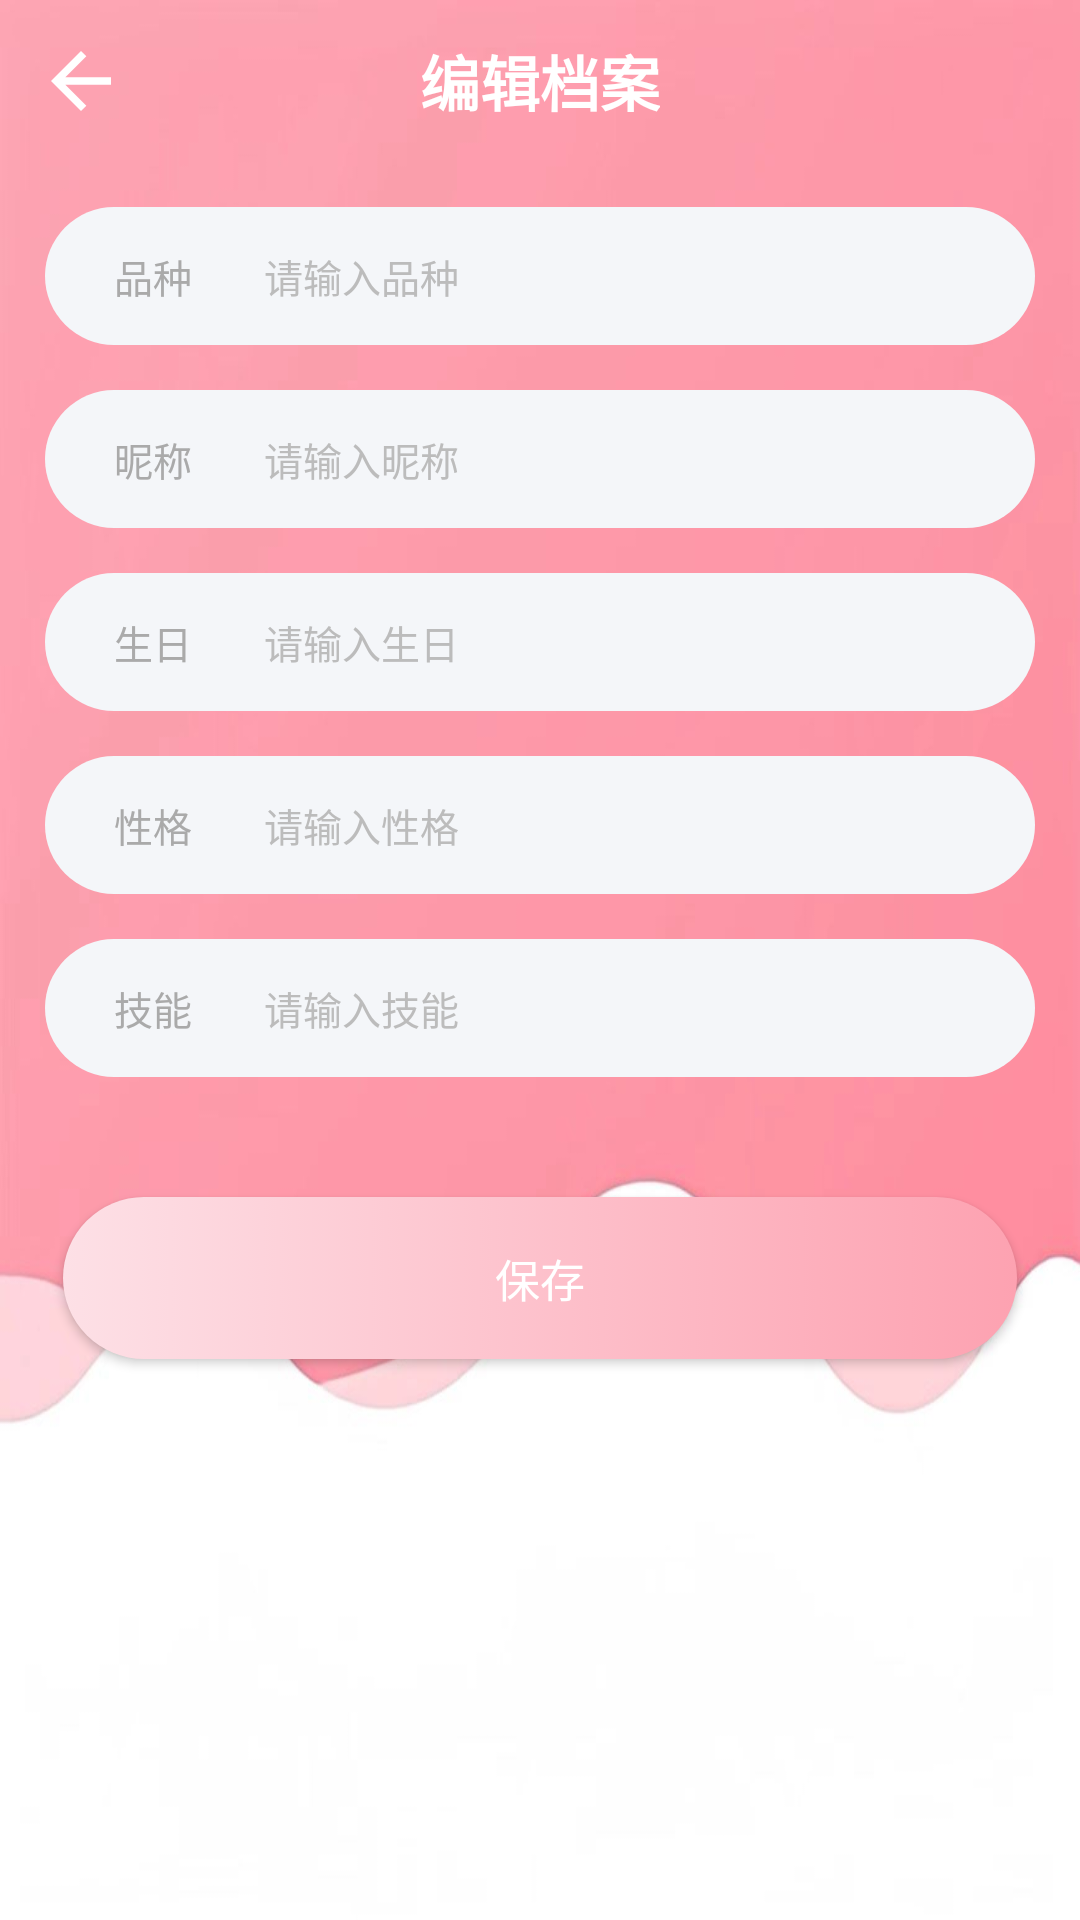

Icons on this 1080w x 1920h Android screen, each with the point to tap as (x,y):
back: (81,81)
